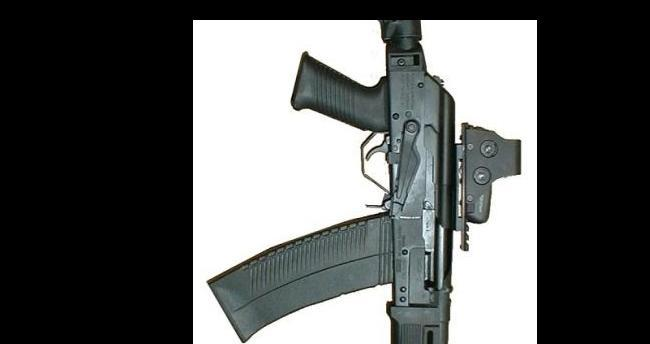larga: (207, 19, 521, 344)
